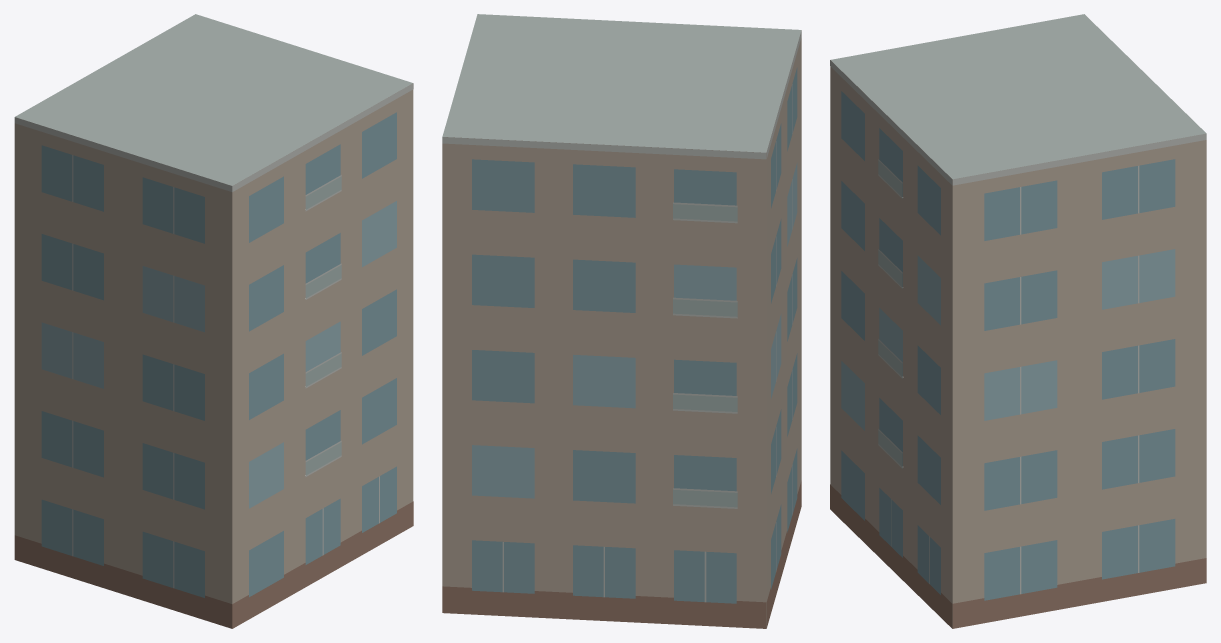
The model's file is survey-upis-32585545.glb.
The picture shows the model from 3 angles, left to right: view 1: azimuth 30°, elevation 25°; view 2: azimuth 150°, elevation 25°; view 3: azimuth 270°, elevation 25°; orthographic projection. The views are drawn at different scales.
Parts seen in each view (by area): view 1: survey-upis-32585545.tmp; view 2: survey-upis-32585545.tmp; view 3: survey-upis-32585545.tmp.
Part boxes in pixels (box(x1,y1,x2,y2)): survey-upis-32585545.tmp: box(14, 14, 413, 628); survey-upis-32585545.tmp: box(442, 14, 801, 628); survey-upis-32585545.tmp: box(830, 14, 1206, 628).
Bounding box in the file's own units: 13.74 × 17.4 × 13.22.
